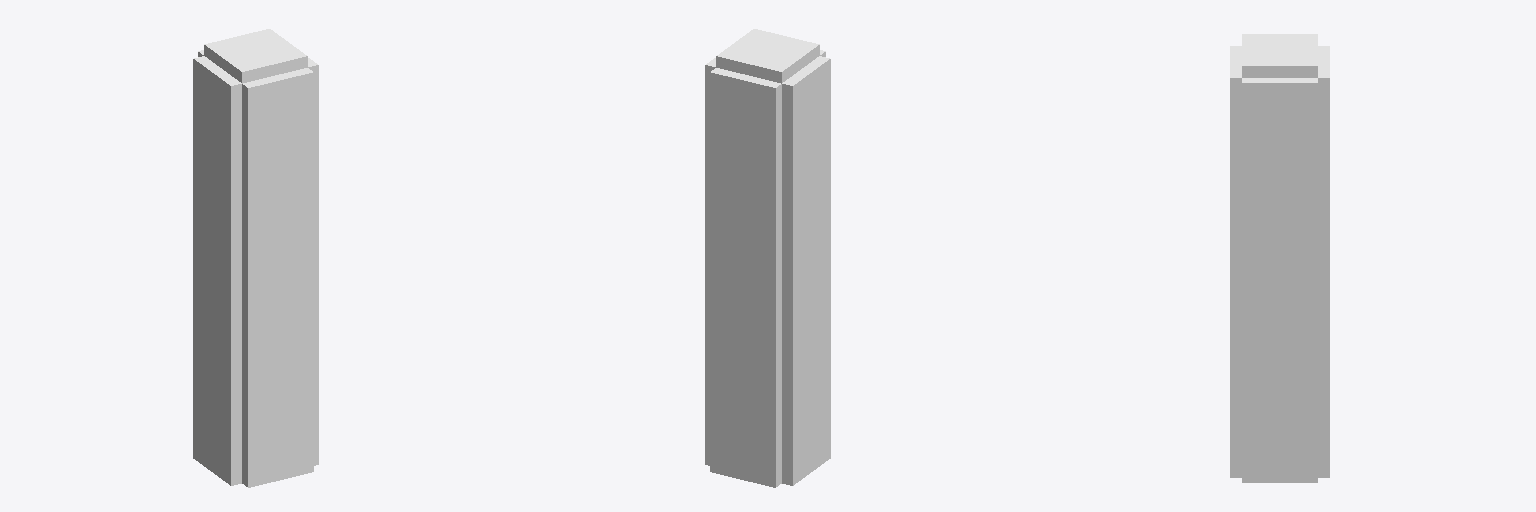
Rendered from cigarette_3_1.0.obj.
The picture shows the model from 3 angles: view 1: azimuth 30°, elevation 25°; view 2: azimuth 150°, elevation 25°; view 3: azimuth 270°, elevation 25°; orthographic projection.
Visible parts, largest first — view 1: object 1; view 2: object 1; view 3: object 1.
Part boxes in pixels (left/top/right/bottom): object 1: left=193, top=29, right=318, bottom=487; object 1: left=705, top=29, right=830, bottom=487; object 1: left=1230, top=34, right=1329, bottom=482.
Bounding box in the file's own units: 0.8 × 3.6 × 0.8.